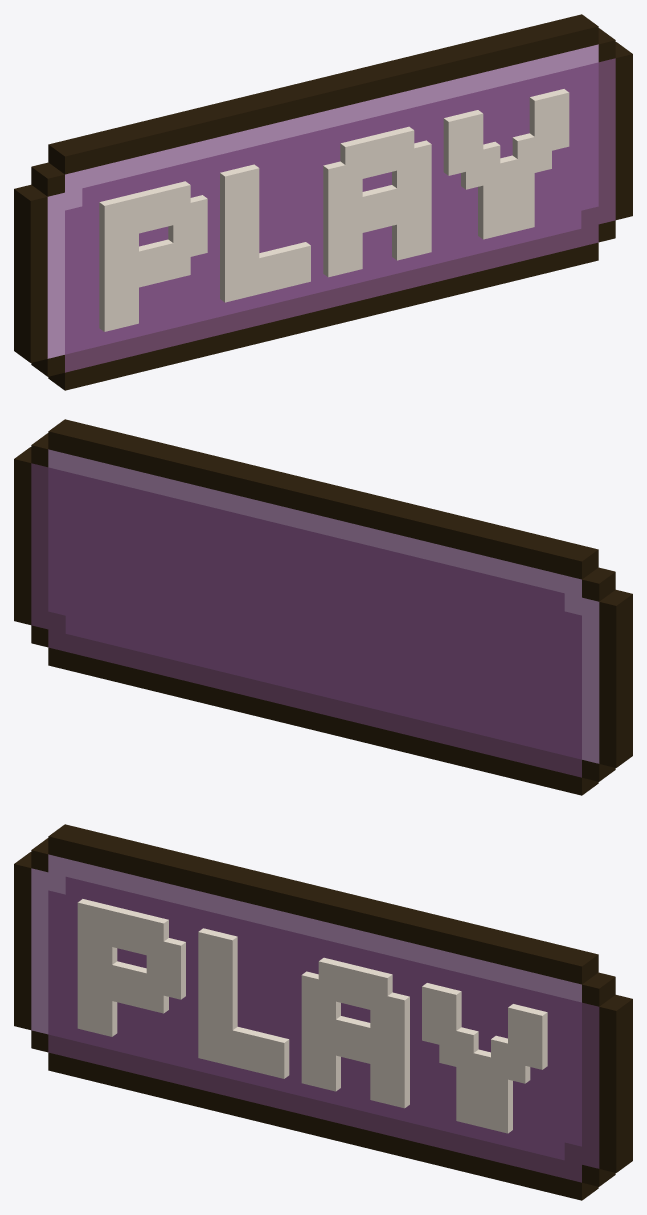
The model's file is PLAY.fbx.
3 renders of one model, top to bottom at view 1: azimuth 30°, elevation 25°; view 2: azimuth 150°, elevation 25°; view 3: azimuth 330°, elevation 25°, orthographic.
Parts seen in each view (by area): view 1: Box007; view 2: Box007; view 3: Box007.
Boxes of the visible parts, x1,y1,x2,y2 form: Box007: (14, 14, 632, 390); Box007: (14, 419, 632, 795); Box007: (14, 824, 632, 1200).
Size of the model in its own units: 105 by 39 by 6.54.
